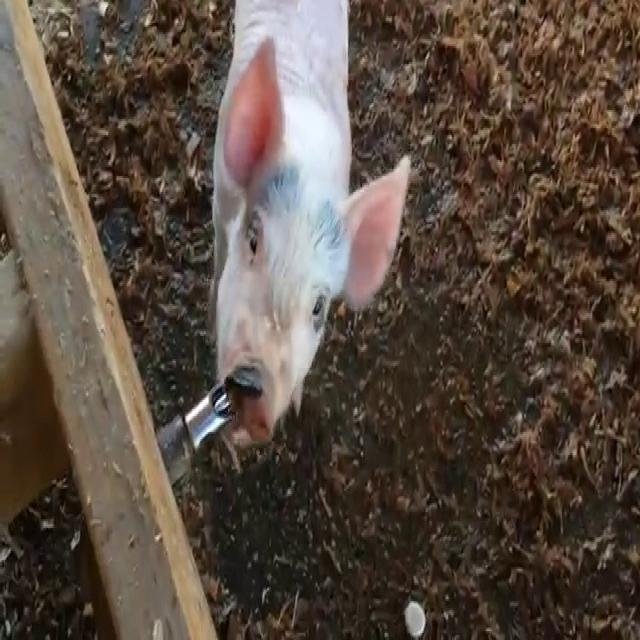pig: (214, 0, 409, 444)
